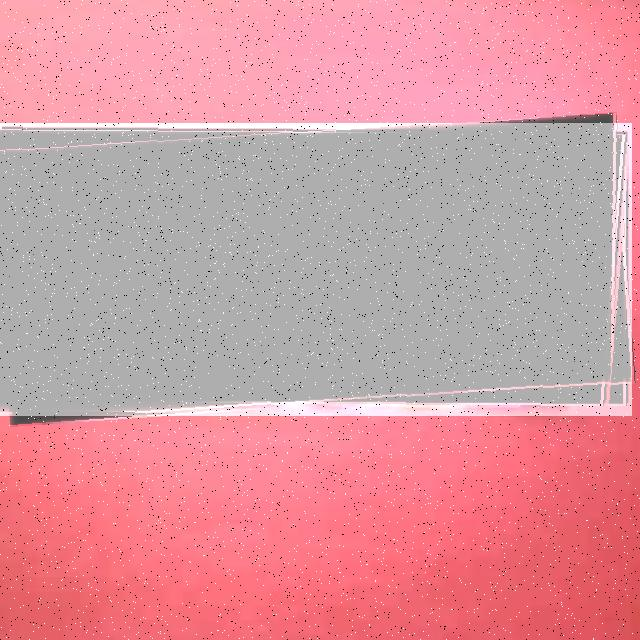lima puluh ribu rupiah: (0, 123, 632, 416)
